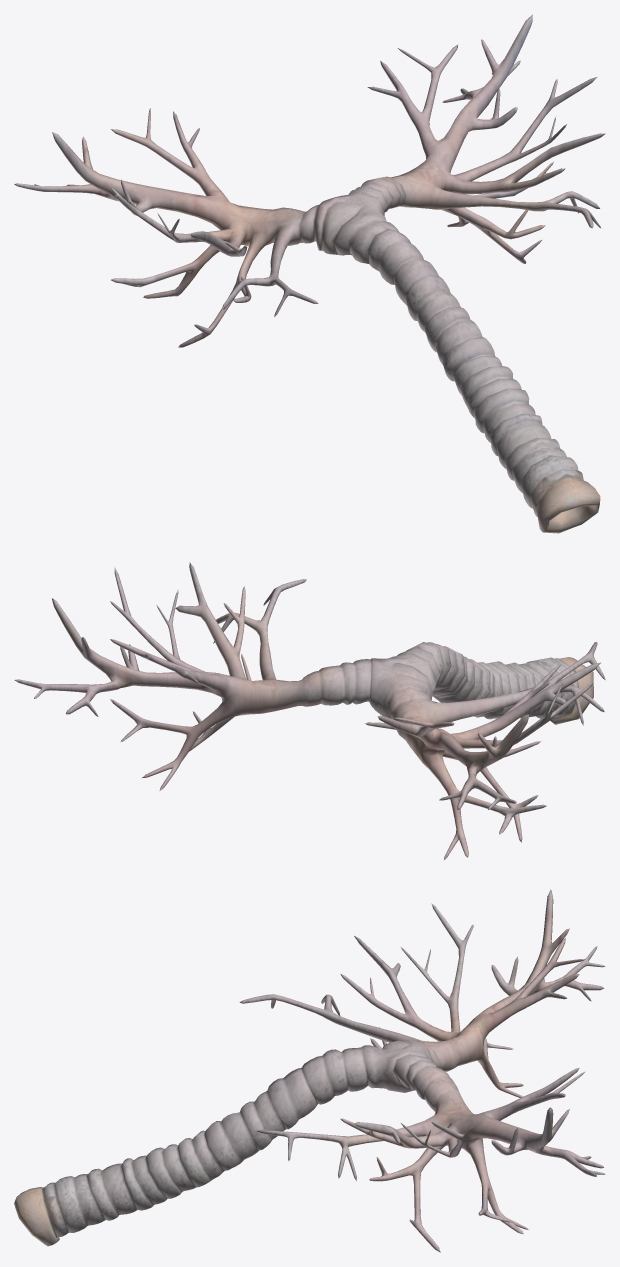
File: male_bronchus-lo.obj
The picture shows the model from 3 angles, top to bottom: view 1: azimuth 30°, elevation 25°; view 2: azimuth 150°, elevation 25°; view 3: azimuth 270°, elevation 25°; orthographic projection. The views are drawn at different scales.
Parts seen in each view (by area): view 1: Object__0; view 2: Object__0; view 3: Object__0.
Boxes of the visible parts, x1,y1,x2,y2 form: Object__0: [14, 14, 605, 533]; Object__0: [14, 562, 605, 859]; Object__0: [14, 889, 605, 1252].
Size of the model in its own units: 0.2062 by 0.1027 by 0.2243.
Materials: 2 (2 with a texture image).
